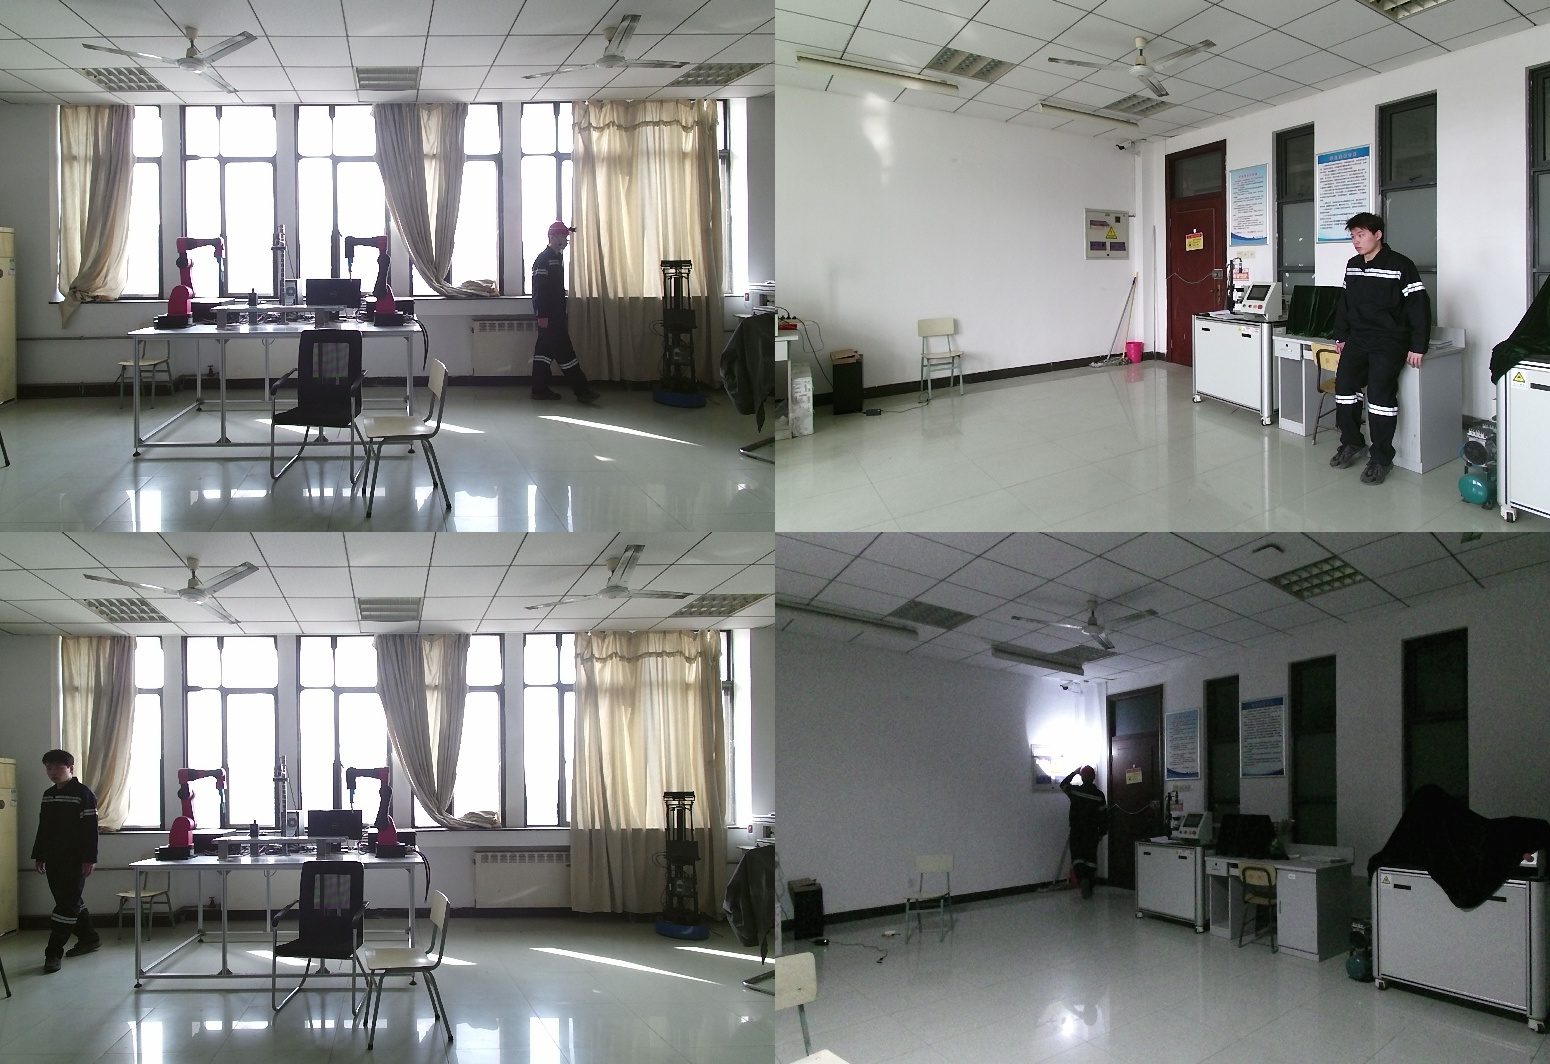person: (1335, 213, 1443, 479), (26, 751, 109, 974), (534, 224, 602, 412), (1057, 766, 1111, 899)
